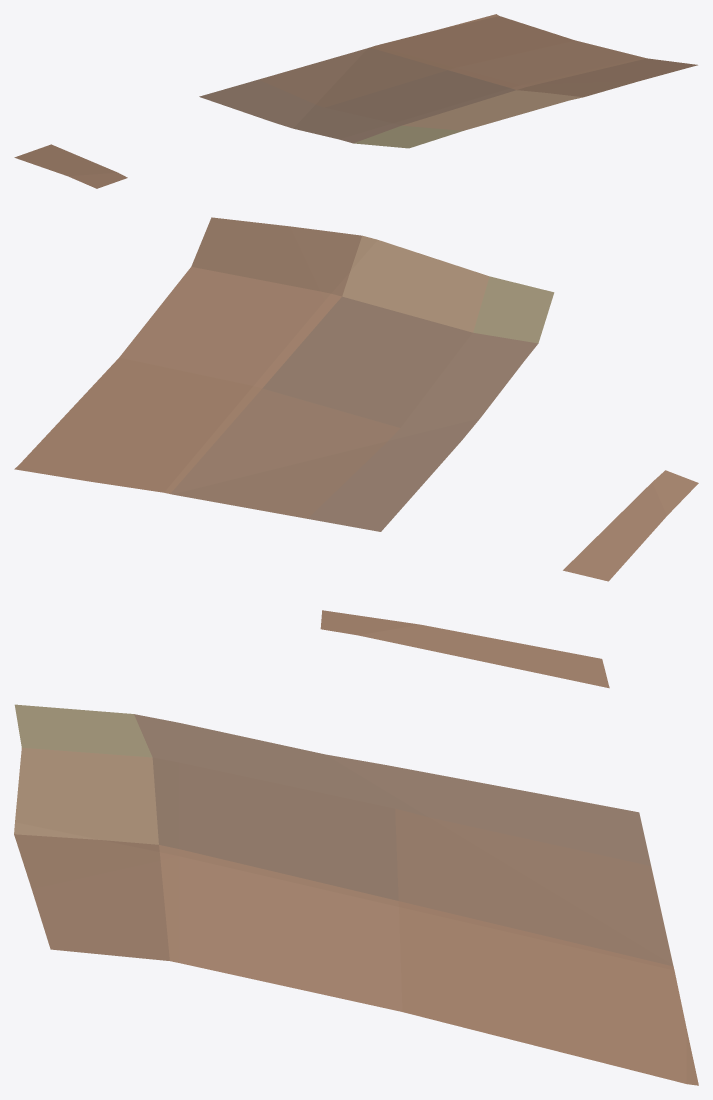
The model's file is farm_4_28_soil.glb.
The picture shows the model from 3 angles, top to bottom: view 1: azimuth 30°, elevation 25°; view 2: azimuth 150°, elevation 25°; view 3: azimuth 270°, elevation 25°; orthographic projection. The views are drawn at different scales.
Visible parts, largest first — view 1: geometry_0; view 2: geometry_0; view 3: geometry_0.
Boxes of the visible parts, x1,y1,x2,y2 form: geometry_0: (14,14,697,188); geometry_0: (14,217,698,581); geometry_0: (14,610,698,1085).
Size of the model in its own units: 162 by 27.26 by 108.
